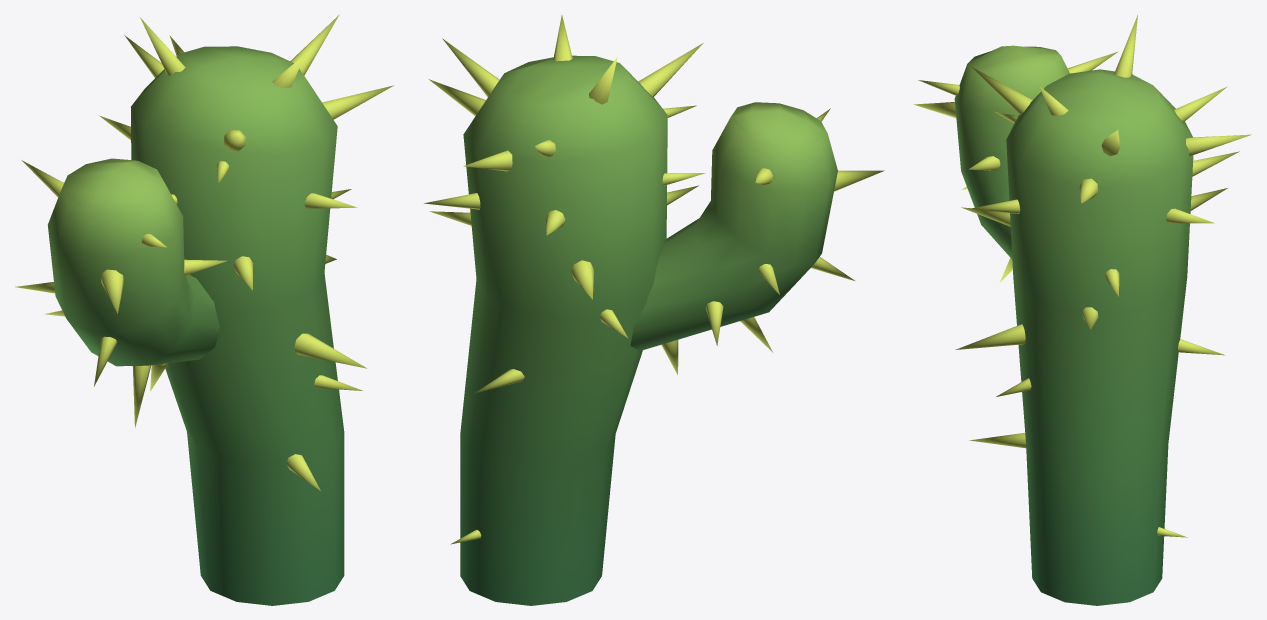
The model's file is cactus 02_toon_material_0.001.glb.
The picture shows the model from 3 angles, left to right: view 1: azimuth 30°, elevation 25°; view 2: azimuth 150°, elevation 25°; view 3: azimuth 270°, elevation 25°; orthographic projection. The views are drawn at different scales.
Visible parts, largest first — view 1: cactus 02_toon_material_0.001; view 2: cactus 02_toon_material_0.001; view 3: cactus 02_toon_material_0.001.
Part boxes in pixels (x1,y1,x2,y2): cactus 02_toon_material_0.001: (15,14,393,605); cactus 02_toon_material_0.001: (424,15,884,605); cactus 02_toon_material_0.001: (913,15,1251,605).
Size of the model in its own units: 1.2 by 1.75 by 1.05.
1 material, 1 textured.
